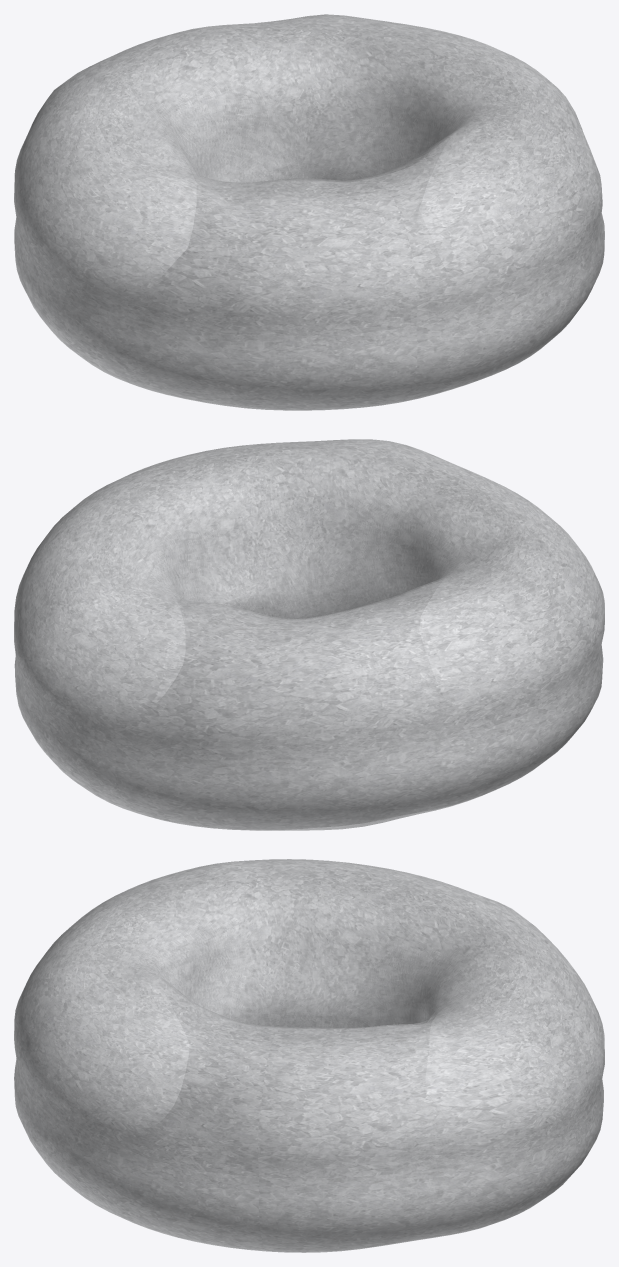
The model's file is sugar.glb.
3 views of the same model, one above another, from view 1: azimuth 30°, elevation 25°; view 2: azimuth 150°, elevation 25°; view 3: azimuth 270°, elevation 25° (orthographic). The views are drawn at different scales.
Visible parts, largest first — view 1: sugar; view 2: sugar; view 3: sugar.
Boxes of the visible parts, x1,y1,x2,y2 form: sugar: (14, 14, 604, 410); sugar: (14, 439, 604, 830); sugar: (14, 859, 604, 1252).
Bounding box in the file's own units: 0.1515 × 0.0634 × 0.1515.
1 material, 1 textured.
